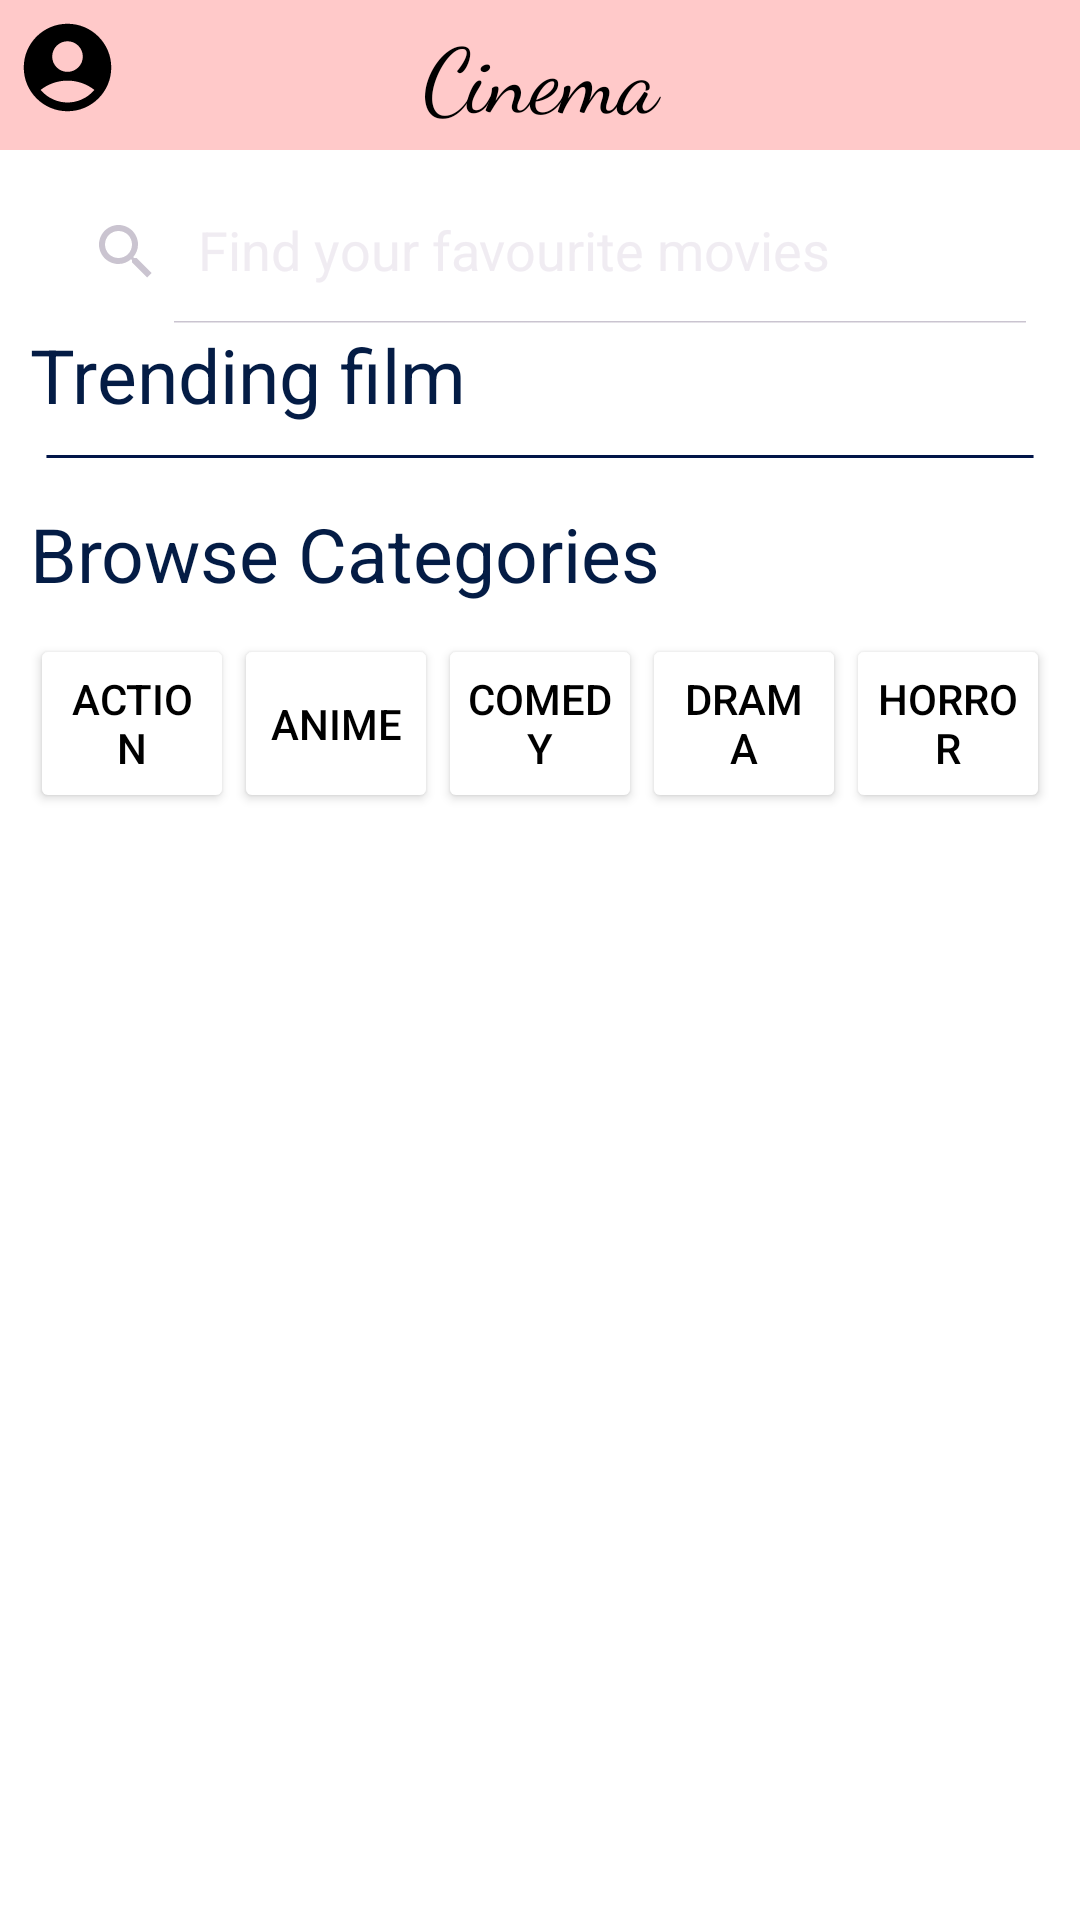

Icon bounding boxes for this 1080w x 1920h phone screenshot, format (x1, y1, x2, y2):
account circle: (23, 23, 112, 112)
